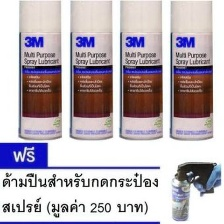aerosol_cans: (65, 0, 116, 145), (15, 0, 65, 143), (115, 0, 164, 143), (168, 0, 216, 144), (167, 168, 192, 223)
